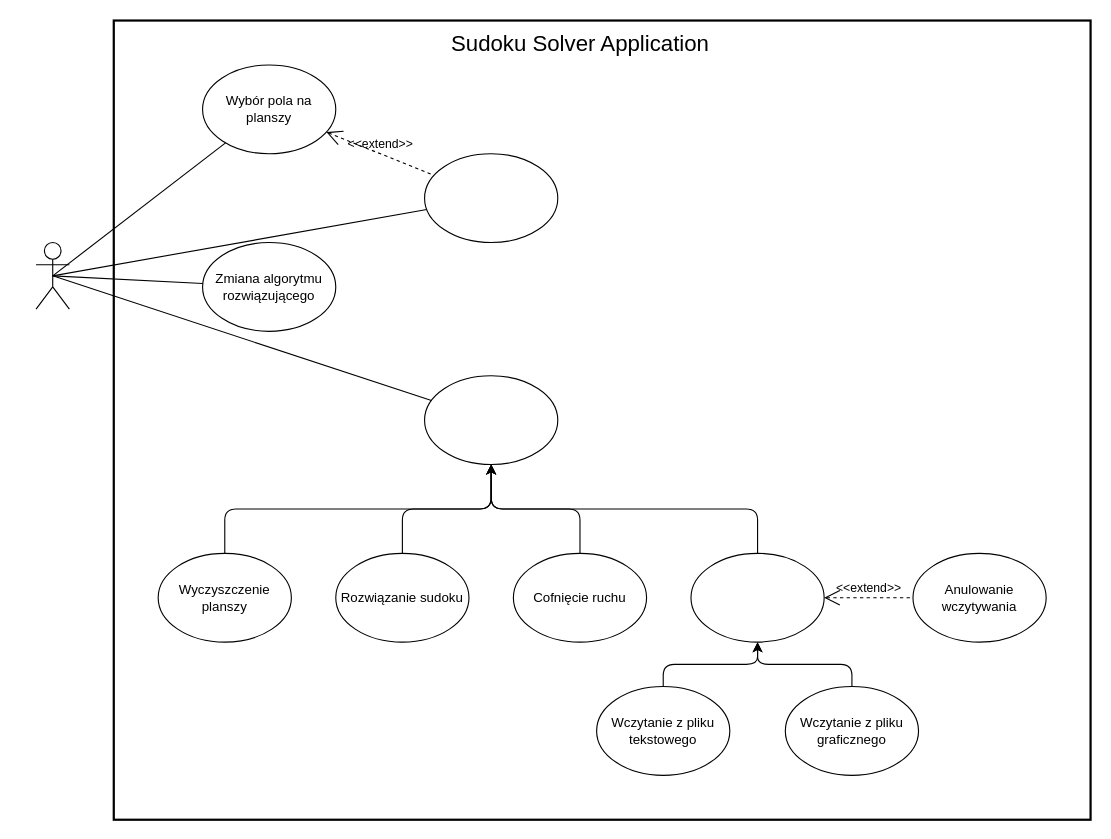
The diagram is 1111 pixels wide and 839 high, and some of its shapes have lost their labels. Each missing label, with the centre of its shape:
Kliknięcie przycisku: point 490,420
Użytkownik: point 52,275
Wczytanie sudoku: point 757,597
Wpisanie liczby: point 490,198
